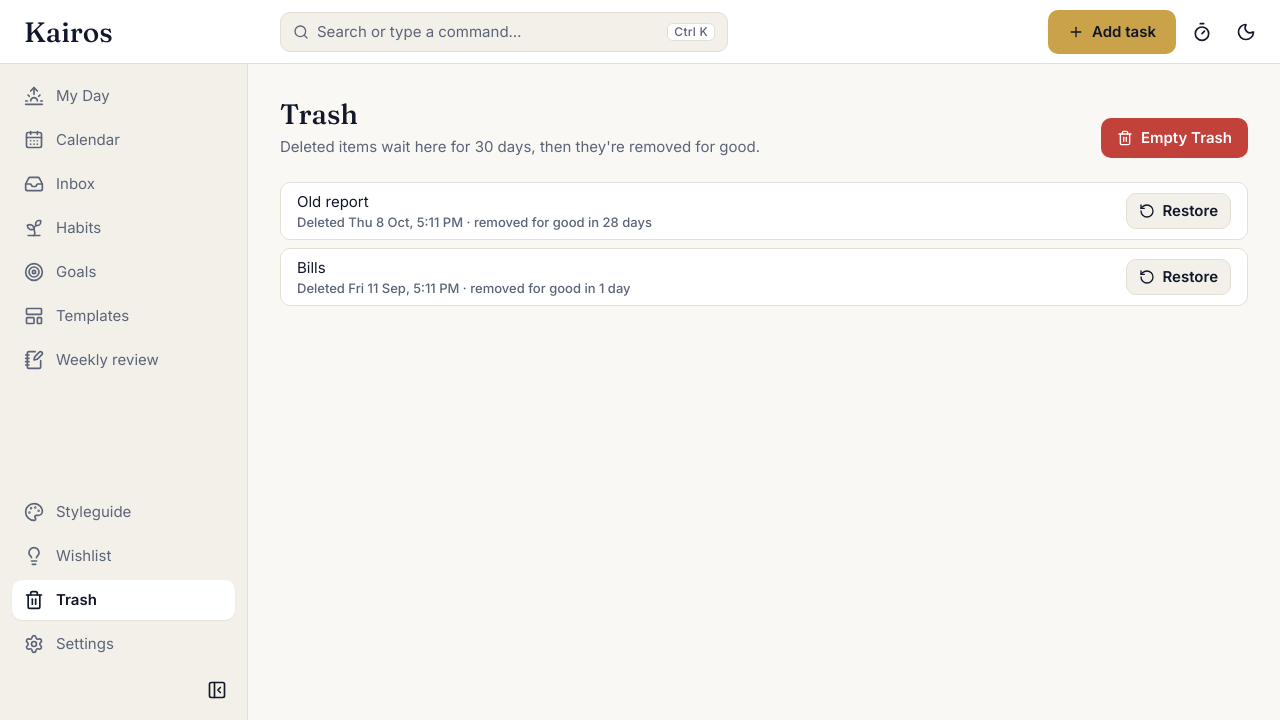
Test case: Trash › lists deleted items with how long they stay, and restores one
Check: the text "Old report" is shown, box 297,192 -> 369,211
Check: the text "Deleted Thu 8 Oct, 5:11 PM · removed for good in 28 days" is shown, box 297,214 -> 652,230
Click the button with aria-label "Restore “Old report”".
click(1178, 211)  # box 1126,193 -> 1231,229
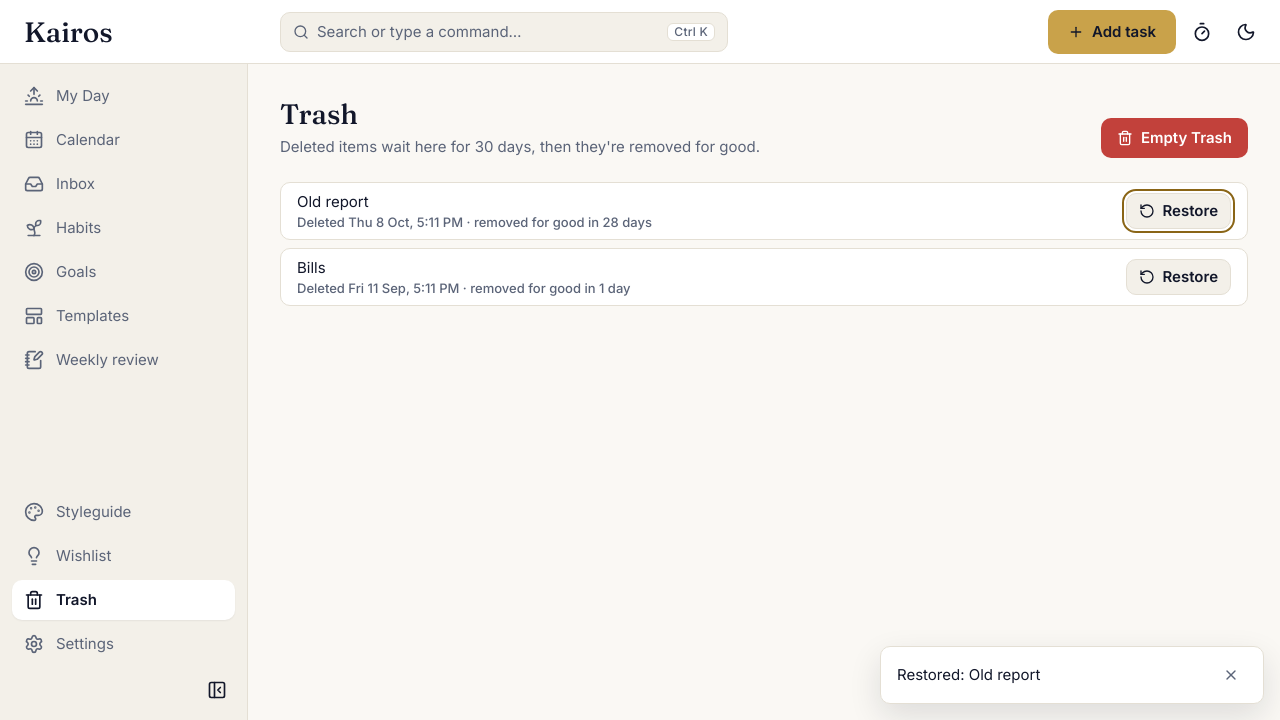
Check: the text "Restored: Old report" is shown, box 897,665 -> 1040,684
